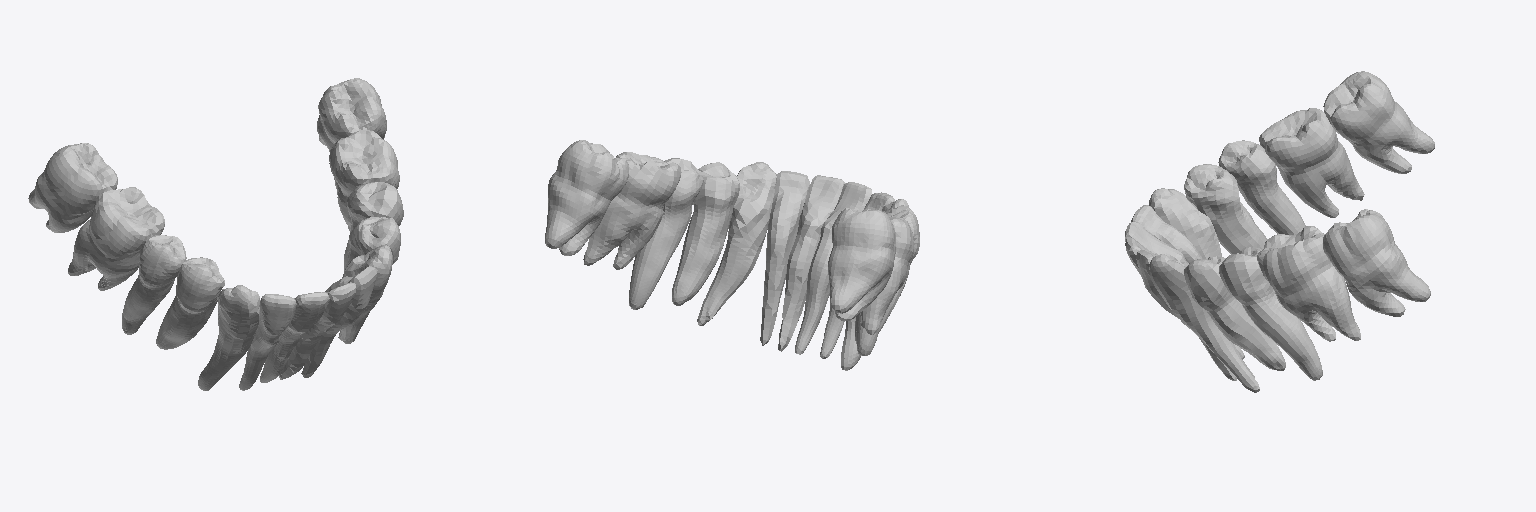
Rendered from teeth.obj.
3 views of the same model, side by side, from view 1: azimuth 30°, elevation 25°; view 2: azimuth 150°, elevation 25°; view 3: azimuth 270°, elevation 25° (orthographic).
Visible parts, largest first — view 1: 4.6_teeth.008, 4.7_teeth.020, 4.4_teeth.012, 3.7_teeth.009, 4.5_teeth.021, 4.3_teeth.022, 3.8_teeth.026, 4.2_teeth.005, 4.1_teeth.023, 3.6_teeth.025, 3.2_teeth.013, 3.1_teeth.001 (+2 smaller); view 2: 3.8_teeth.026, 4.7_teeth.020, 3.7_teeth.009, 3.4_teeth.024, 3.5_teeth.011, 3.6_teeth.025, 3.1_teeth.001, 3.2_teeth.013, 4.1_teeth.023, 4.6_teeth.008, 4.5_teeth.021, 4.2_teeth.005 (+1 smaller); view 3: 3.7_teeth.009, 3.8_teeth.026, 4.6_teeth.008, 4.7_teeth.020, 3.6_teeth.025, 3.5_teeth.011, 4.4_teeth.012, 4.5_teeth.021, 3.4_teeth.024, 4.3_teeth.022, 4.2_teeth.005, 4.1_teeth.023 (+1 smaller).
Boxes of the visible parts, x1,y1,x2,y2 form: 4.6_teeth.008: [68, 187, 164, 290]; 4.7_teeth.020: [28, 143, 117, 232]; 4.4_teeth.012: [156, 257, 224, 349]; 3.7_teeth.009: [329, 130, 399, 230]; 4.5_teeth.021: [122, 235, 186, 334]; 4.3_teeth.022: [198, 285, 260, 390]; 3.8_teeth.026: [317, 78, 386, 163]; 4.2_teeth.005: [239, 294, 296, 390]; 4.1_teeth.023: [260, 292, 329, 382]; 3.6_teeth.025: [344, 182, 403, 270]; 3.2_teeth.013: [301, 266, 377, 377]; 3.1_teeth.001: [279, 282, 356, 379]; 3.8_teeth.026: [545, 140, 628, 255]; 4.7_teeth.020: [828, 208, 895, 320]; 3.7_teeth.009: [583, 152, 681, 269]; 3.4_teeth.024: [697, 162, 776, 325]; 3.5_teeth.011: [672, 162, 739, 305]; 3.6_teeth.025: [629, 158, 703, 309]; 3.1_teeth.001: [778, 175, 845, 351]; 3.2_teeth.013: [760, 171, 809, 345]; 4.1_teeth.023: [795, 182, 871, 354]; 4.6_teeth.008: [856, 209, 913, 334]; 4.5_teeth.021: [856, 209, 919, 355]; 4.2_teeth.005: [820, 192, 894, 358]; 3.7_teeth.009: [1257, 226, 1360, 341]; 3.8_teeth.026: [1323, 209, 1430, 316]; 4.6_teeth.008: [1259, 108, 1364, 217]; 4.7_teeth.020: [1323, 71, 1434, 173]; 3.6_teeth.025: [1219, 247, 1322, 380]; 3.5_teeth.011: [1184, 256, 1285, 370]; 4.4_teeth.012: [1184, 164, 1267, 254]; 4.5_teeth.021: [1218, 140, 1305, 234]; 3.4_teeth.024: [1149, 254, 1259, 392]; 4.3_teeth.022: [1149, 188, 1221, 258]; 4.2_teeth.005: [1131, 205, 1202, 262]; 4.1_teeth.023: [1125, 222, 1244, 359].
Bounding box in the file's own units: 4.62 × 2.94 × 3.69.